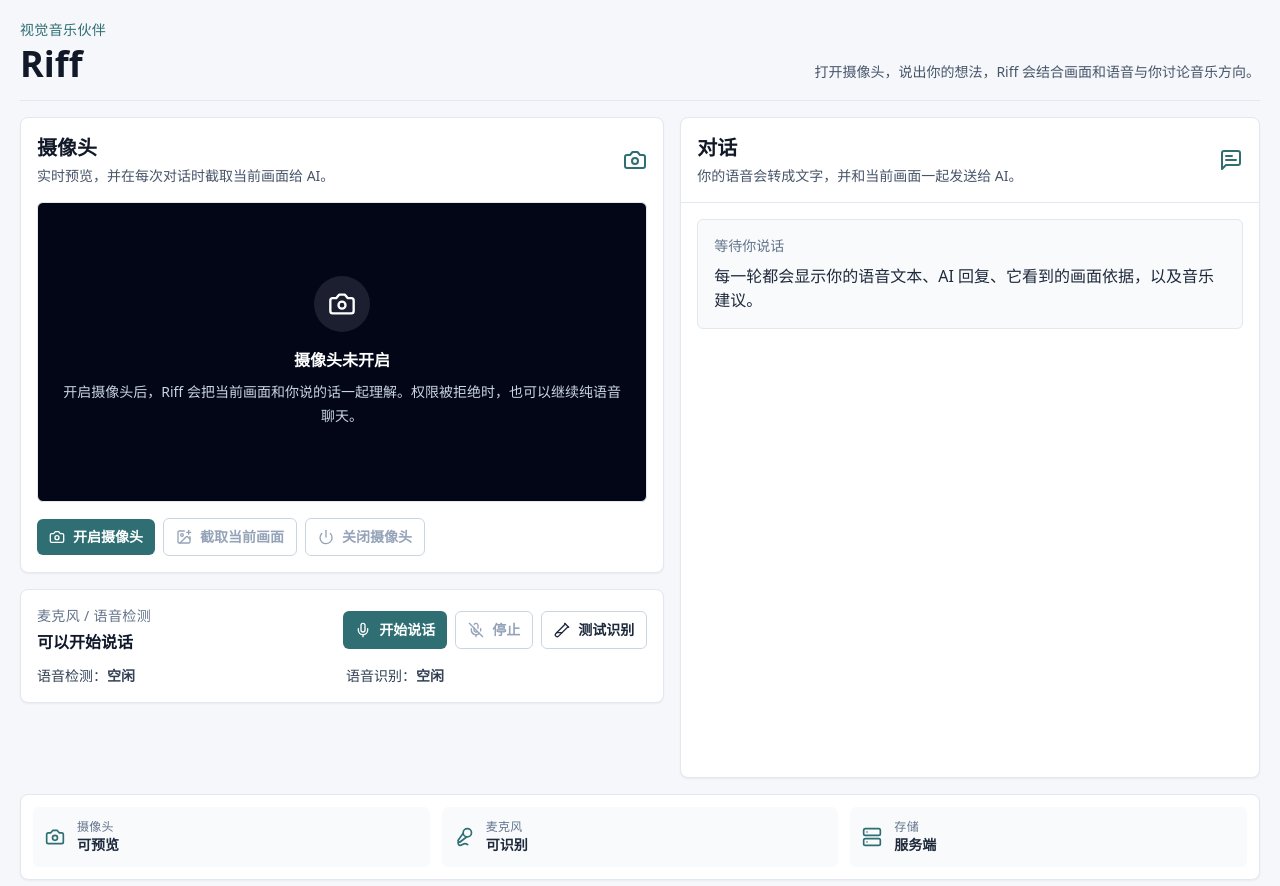
home chat flow › creates a reference track job from a suggested action and renders the playable result
Click the button "测试识别" at (594, 630), box [541,611,647,649]
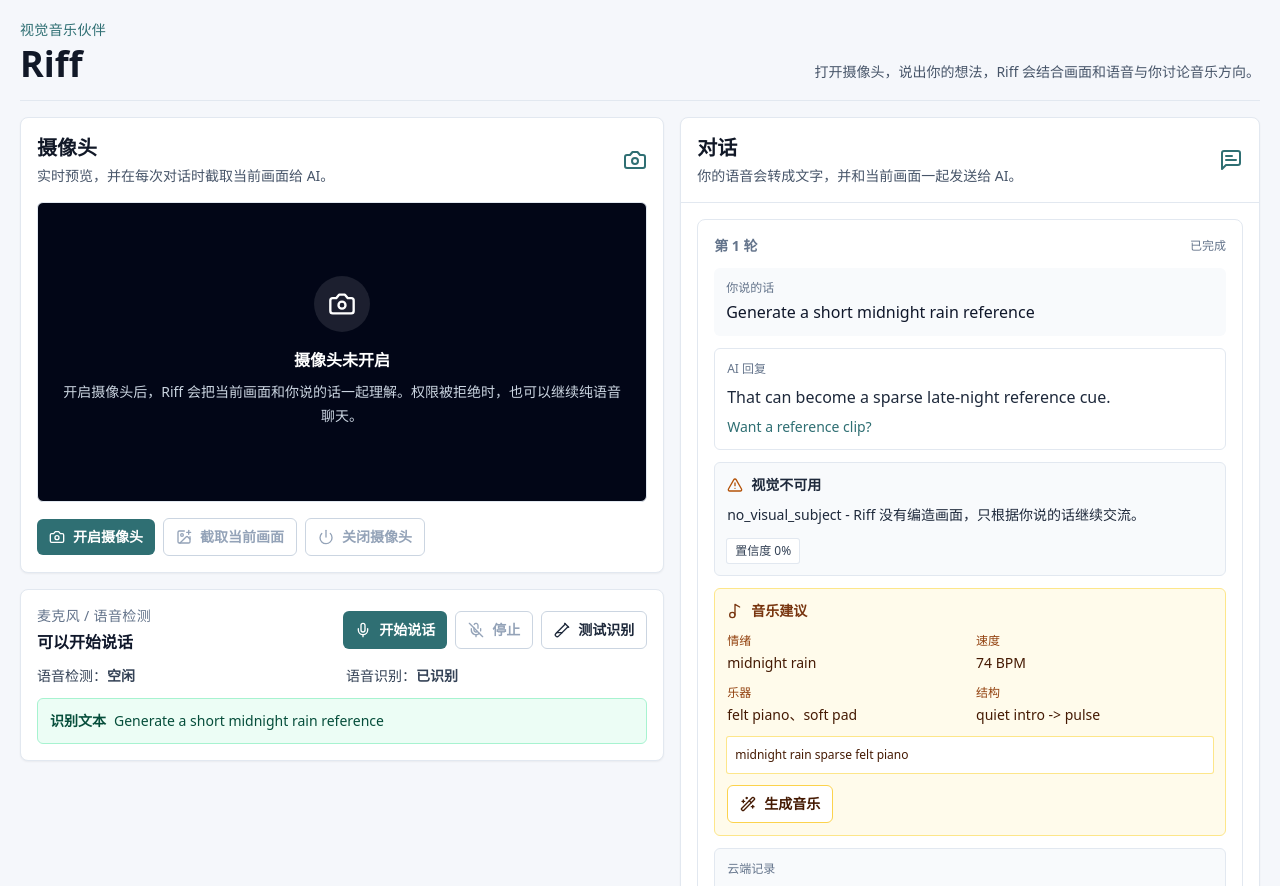
Click the button "生成音乐" at (780, 804), box [727,785,833,823]
(page scrolled)
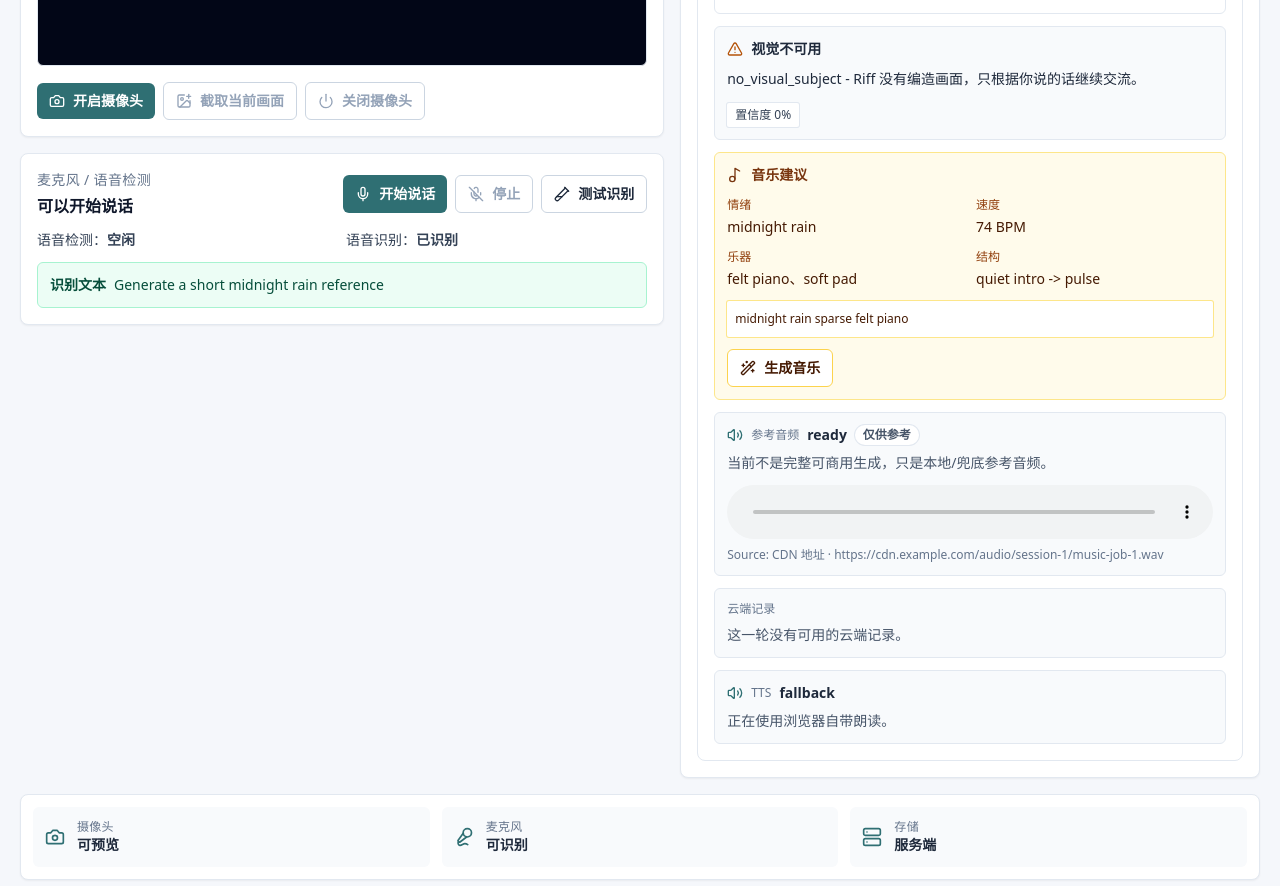
Expected: the text "参考音频" is shown, [751,427,799,443]
Expected: the text "ready" is shown, [807,425,847,445]
Expected: the text "仅供参考" is shown, [855,425,919,445]
